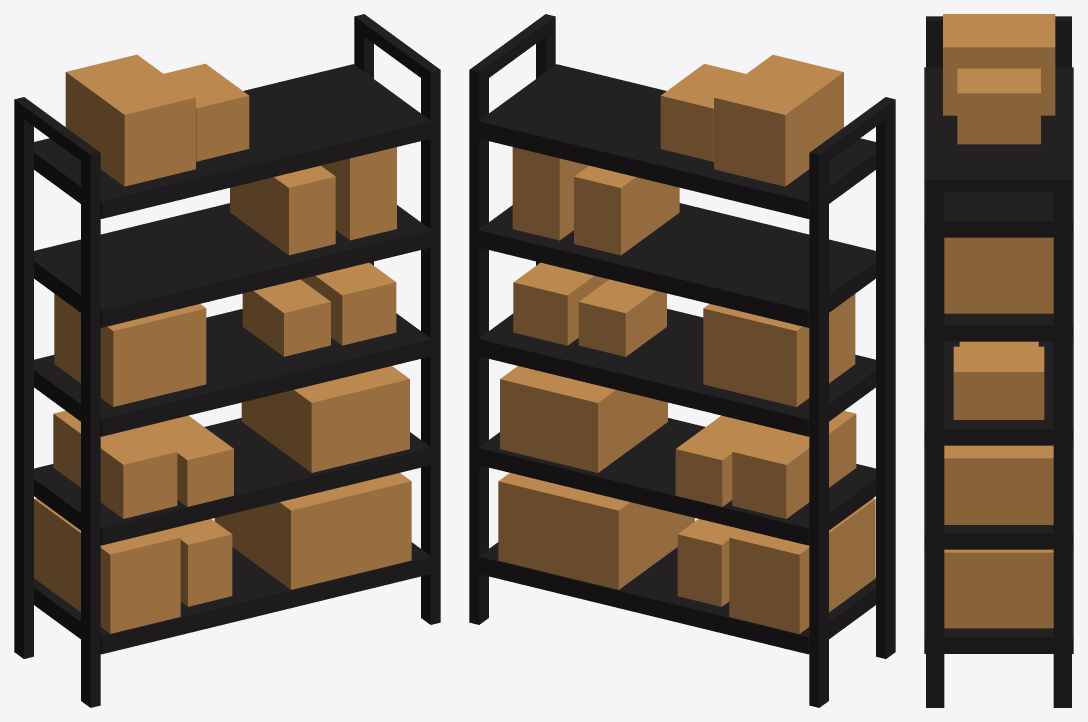
File: Shelves_Single.fbx
The picture shows the model from 3 angles, left to right: view 1: azimuth 30°, elevation 25°; view 2: azimuth 150°, elevation 25°; view 3: azimuth 270°, elevation 25°; orthographic projection. The views are drawn at different scales.
Parts seen in each view (by area): view 1: Single; view 2: Single; view 3: Single.
Part boxes in pixels (<box>): Single: <box>14,14,440,707</box>; Single: <box>469,14,895,707</box>; Single: <box>924,14,1073,707</box>.
Bounding box in the file's own units: 106 × 167 × 41.
